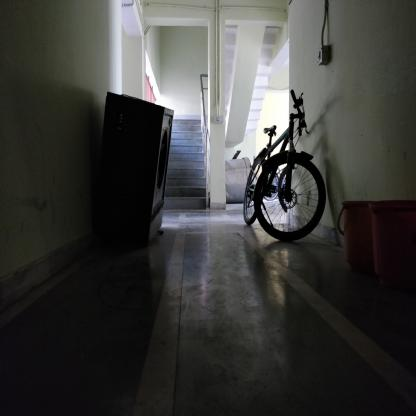stairs: (175, 119, 201, 214)
